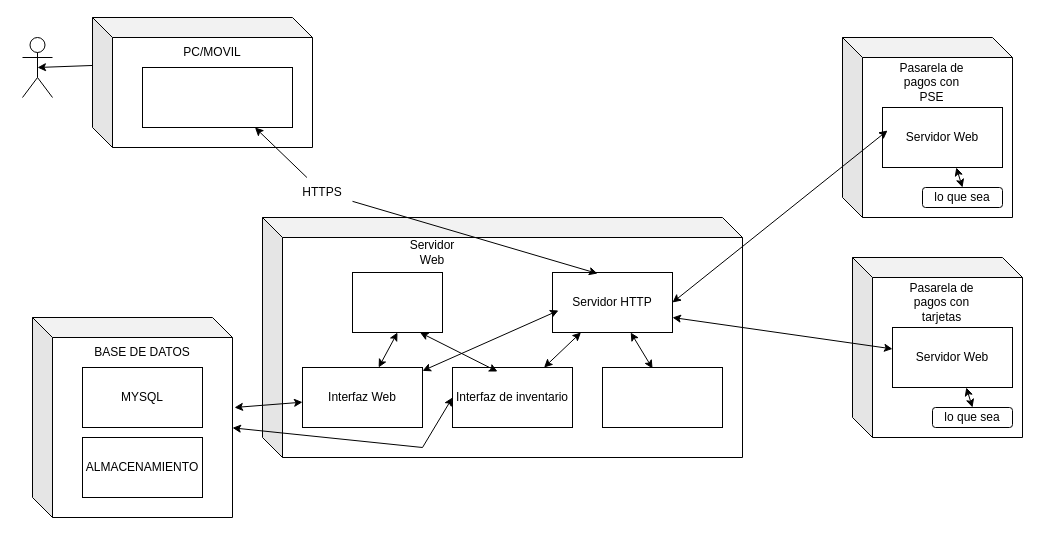
The diagram is 1040 pixels wide and 535 high, and some of its shapes have lost their labels. The centre of each missing label's shape, as x and y in pixels:
"log" goes at pixel 397 302.
"Navegador" goes at pixel 217 97.
"Seguridad" goes at pixel 662 397.
"Usuario" goes at pixel 37 67.
